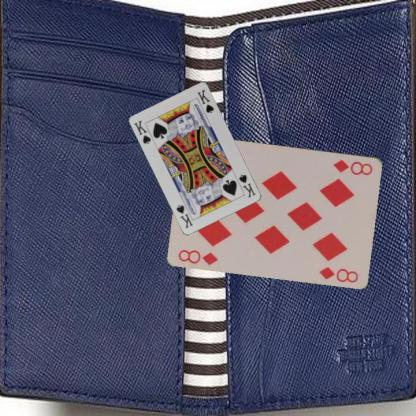8d: (331, 157, 374, 176), (176, 247, 219, 266)
Ks: (236, 172, 257, 199), (132, 118, 152, 145)
